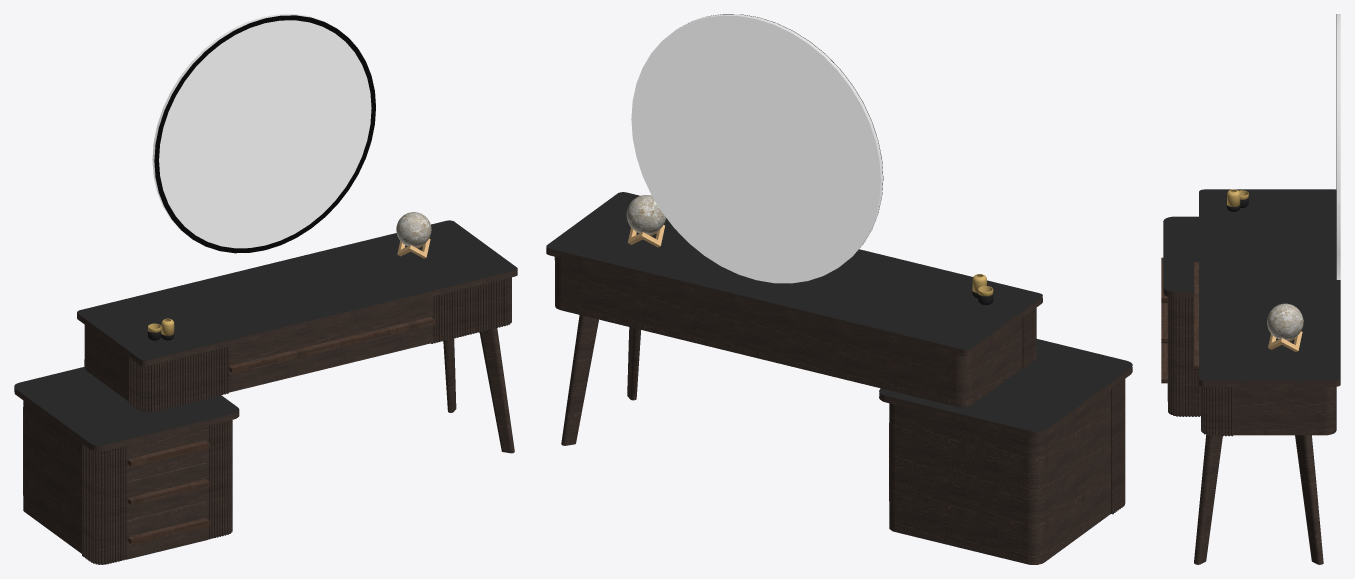
File: Meuble3D1_final.glb
The picture shows the model from 3 angles, left to right: view 1: azimuth 30°, elevation 25°; view 2: azimuth 150°, elevation 25°; view 3: azimuth 270°, elevation 25°; orthographic projection. The views are drawn at different scales.
Visible parts, largest first — view 1: Extrusion.015, Extrusion.003, Blend, Extrusion.004, Extrusion.002, Extrusion.014, Stone, Extrusion.006; view 2: Blend, Extrusion.006, Extrusion.003, Extrusion.004, Stone; view 3: Extrusion.003, Blend, Extrusion.004, Extrusion.006, Extrusion.002, Stone, Vase-01, Wood, Extrusion.014.
Boxes of the visible parts, box(x1,y1,x2,y2) form: Extrusion.015: box(159, 20, 371, 248); Extrusion.003: box(14, 220, 517, 445); Blend: box(14, 269, 517, 559); Extrusion.004: box(82, 277, 511, 564); Extrusion.002: box(85, 317, 434, 544); Extrusion.014: box(154, 15, 375, 253); Stone: box(396, 212, 431, 247); Extrusion.006: box(152, 14, 335, 235); Blend: box(546, 246, 1132, 564); Extrusion.006: box(631, 14, 882, 283); Extrusion.003: box(546, 192, 1132, 431); Extrusion.004: box(1022, 308, 1125, 514); Stone: box(626, 195, 665, 234); Extrusion.003: box(1163, 189, 1340, 380); Blend: box(1163, 287, 1340, 564); Extrusion.004: box(1168, 297, 1233, 436); Extrusion.006: box(1336, 14, 1340, 279); Extrusion.002: box(1161, 257, 1335, 434); Stone: box(1267, 303, 1303, 340); Vase-01: box(1227, 189, 1248, 211); Wood: box(1268, 331, 1302, 351); Extrusion.014: box(1336, 14, 1336, 279).
Bounding box in the file's own units: 2.39 × 2.22 × 0.81.
11 materials, 9 textured.
